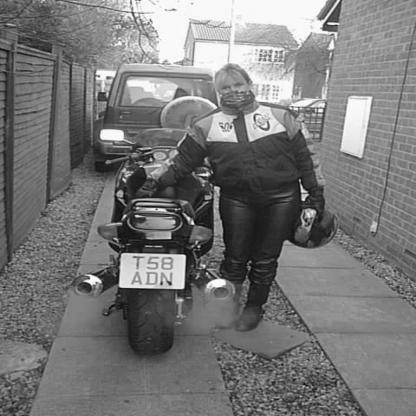moto: (110, 135, 222, 327)
